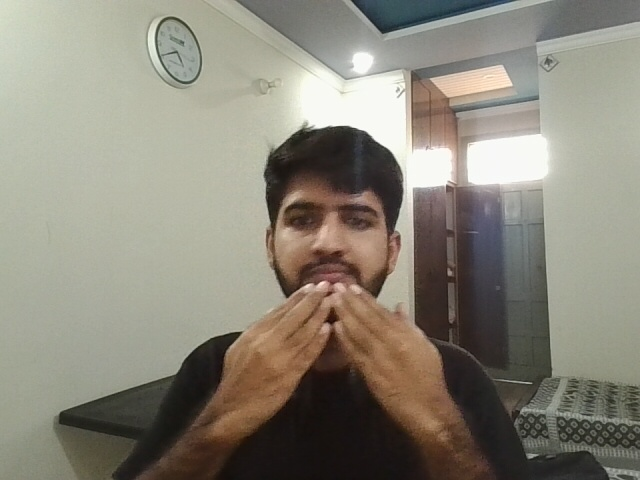Thanks: (150, 275, 511, 449)
